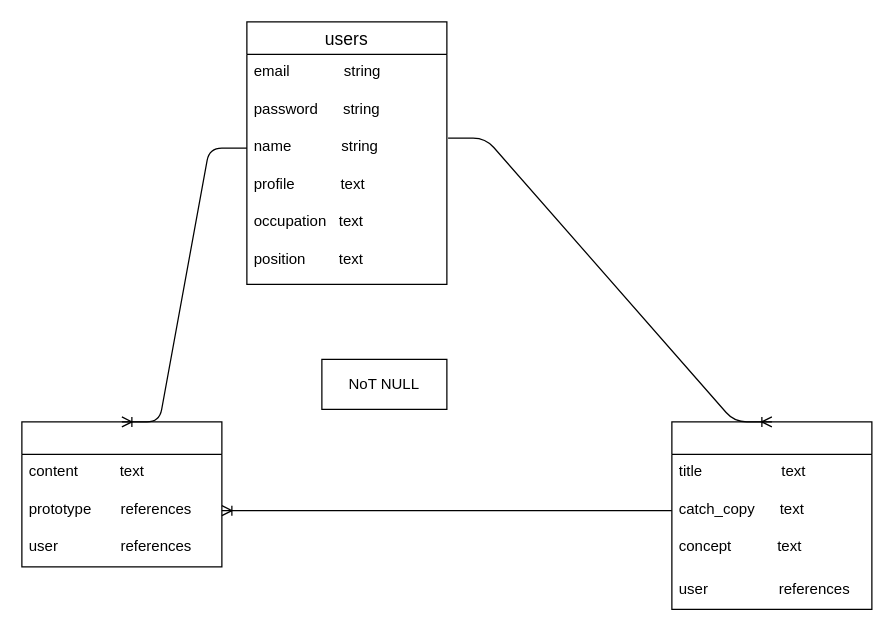
The diagram is 894 pixels wide and 635 high, and some of its shapes have lost their labels. Each missing label, with the box of its shape:
comments: (21, 421, 222, 567)
prototypes: (671, 421, 872, 609)
